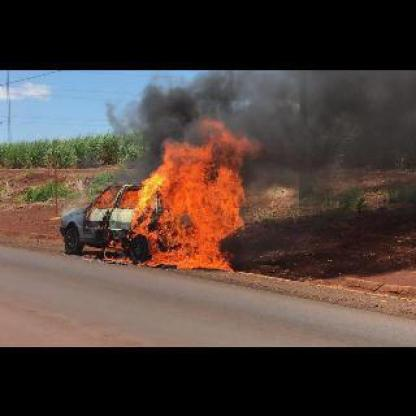fire: (82, 117, 259, 270)
